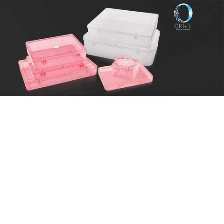plastic_box: (77, 3, 166, 70), (11, 28, 101, 94), (91, 52, 156, 93)
